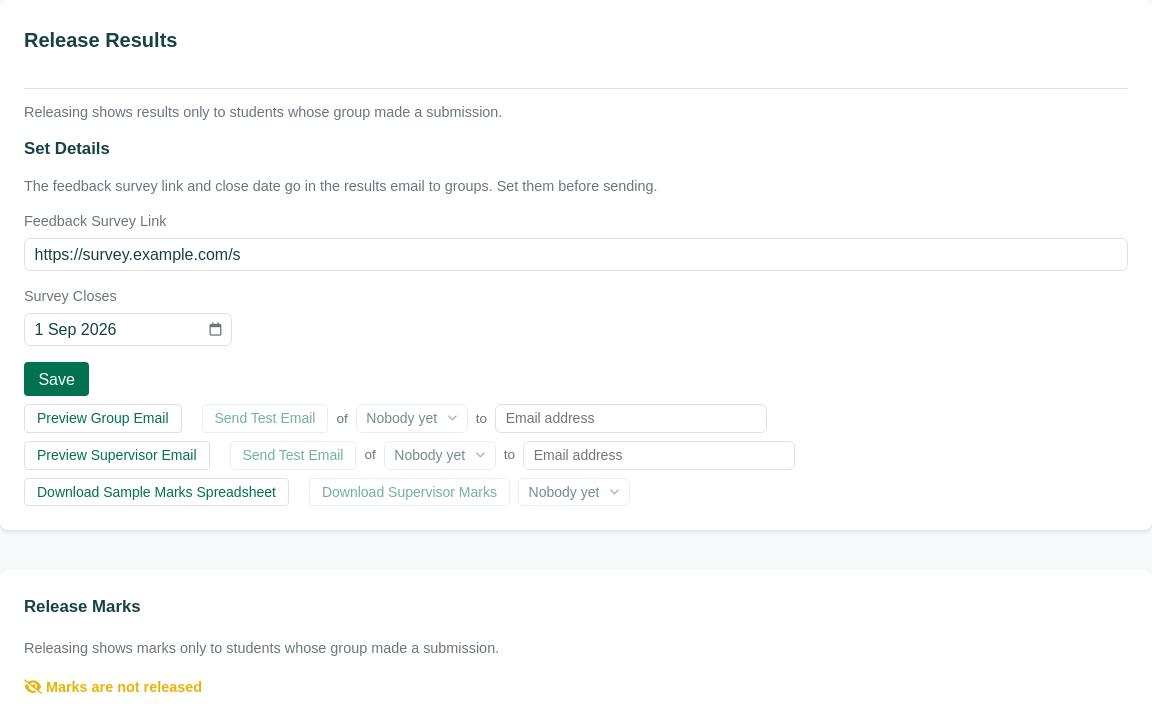
Test: email details › a saved close date that has passed is pointed out when Save is pressed
Click the button "Save" at coordinates (57, 379), box [24,362,89,396]
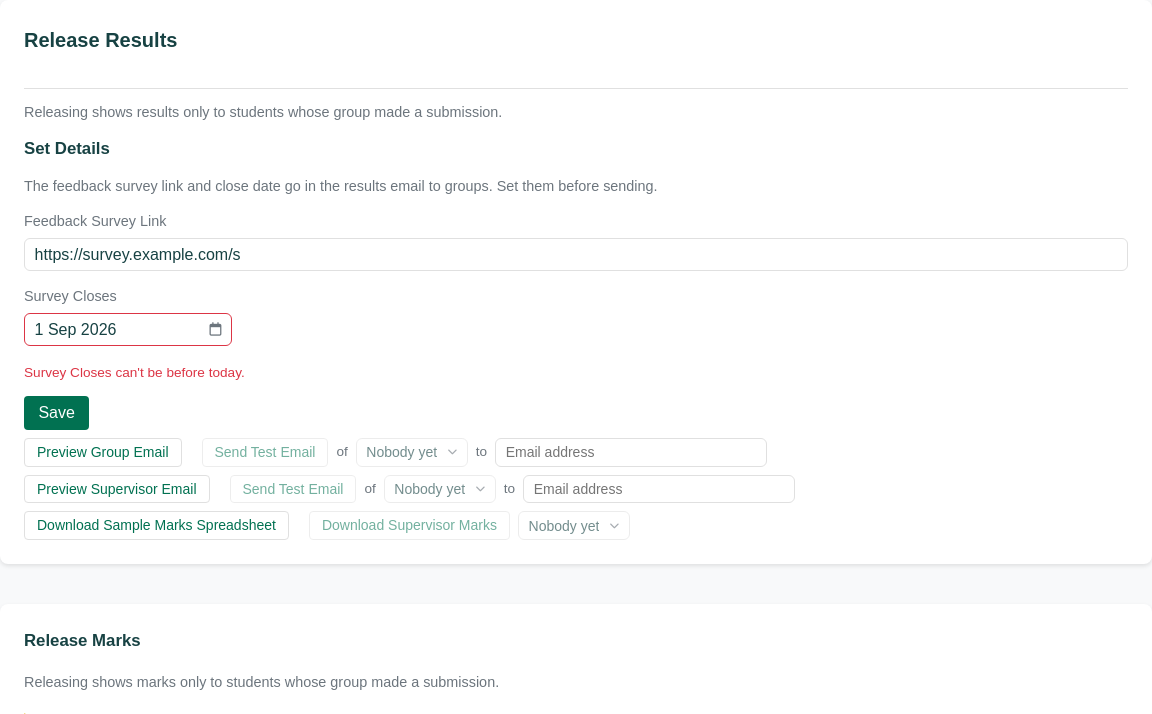
Expected: the message with class "release-results__field-error" reads "Survey Closes can't be before today.", [24,365,245,380]
